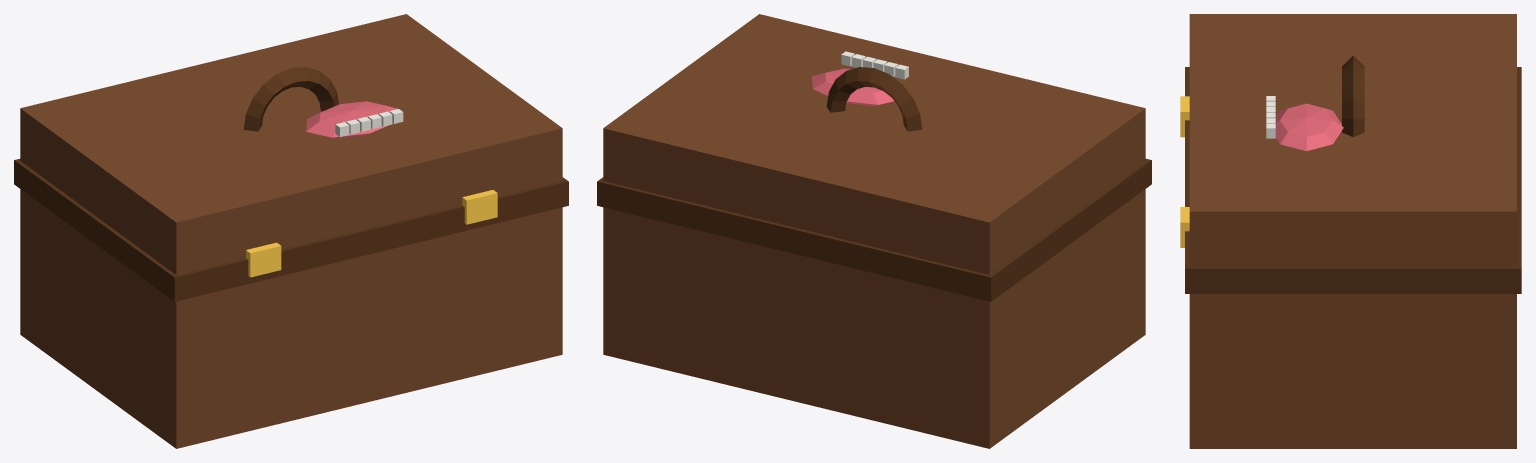
File: denture_case.glb
3 views of the same model, side by side, from view 1: azimuth 30°, elevation 25°; view 2: azimuth 150°, elevation 25°; view 3: azimuth 270°, elevation 25° (orthographic). The views are drawn at different scales.
Parts seen in each view (by area): view 1: case_case_leather, case_case_band, handle_case_band, locks_brass, teeth_gum, teeth_tooth; view 2: case_case_leather, case_case_band, handle_case_band, teeth_gum, teeth_tooth; view 3: case_case_leather, case_case_band, teeth_gum, handle_case_band, locks_brass, teeth_tooth.
Boxes of the visible parts, x1,y1,x2,y2 form: case_case_leather: (20, 14, 562, 448); case_case_band: (14, 159, 568, 301); handle_case_band: (243, 67, 338, 131); locks_brass: (246, 190, 497, 277); teeth_gum: (306, 101, 397, 138); teeth_tooth: (335, 109, 403, 136); case_case_leather: (603, 14, 1145, 448); case_case_band: (597, 159, 1151, 301); handle_case_band: (826, 67, 922, 131); teeth_gum: (812, 68, 894, 105); teeth_tooth: (841, 51, 908, 79); case_case_leather: (1189, 14, 1516, 448); case_case_band: (1185, 67, 1521, 293); teeth_gum: (1275, 103, 1343, 151); handle_case_band: (1342, 55, 1364, 137); locks_brass: (1180, 96, 1189, 247); teeth_tooth: (1266, 96, 1275, 138).
Size of the model in its own units: 0.51 by 0.342 by 0.365.
